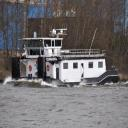tugboat: (12, 28, 123, 91)
